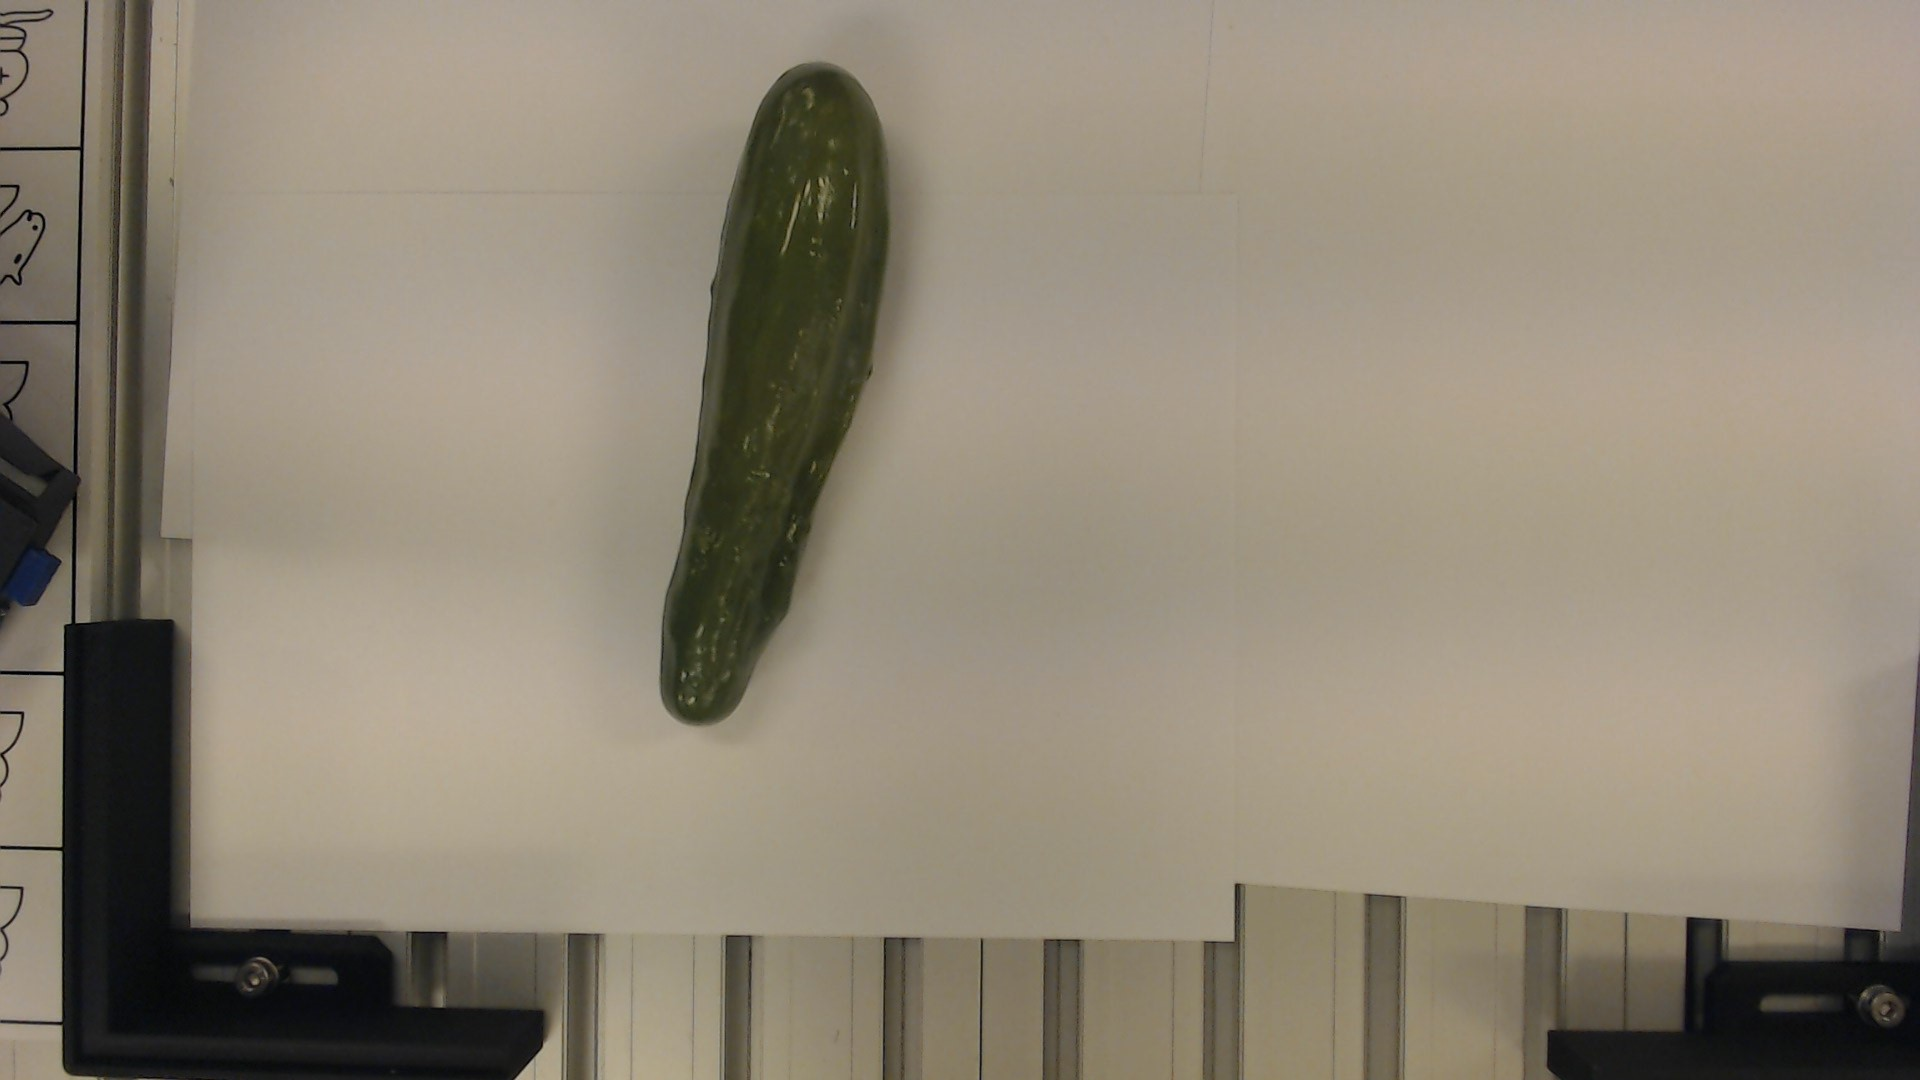Cucumber: (653, 58, 893, 719)
